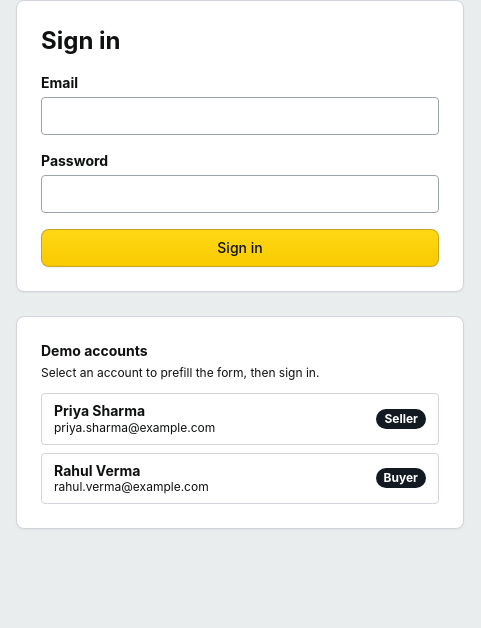
Test: LoginPage — failed login (Req 1.3) › shows an authentication-failed alert and does not redirect
The width and height of the screenshot is (481, 628).
Step 1. Type "priya.sharma@example.com" into the field labelled "Email" → {"x": 240, "y": 116}, box [41,97,439,135]
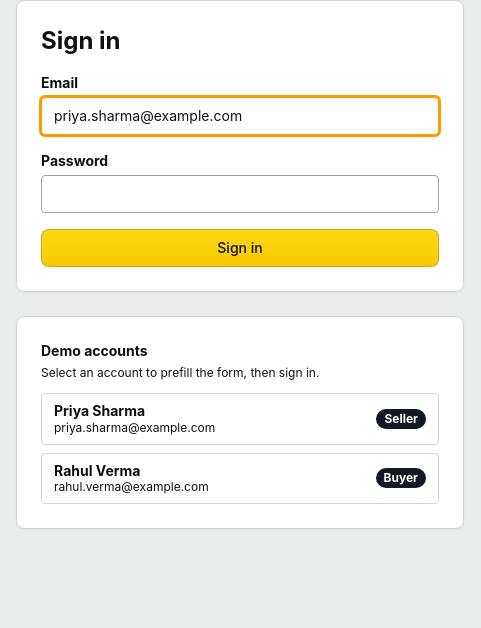
Step 2. Type "wrong-password" into the password field labelled "Password" → {"x": 240, "y": 194}, box [41,175,439,213]
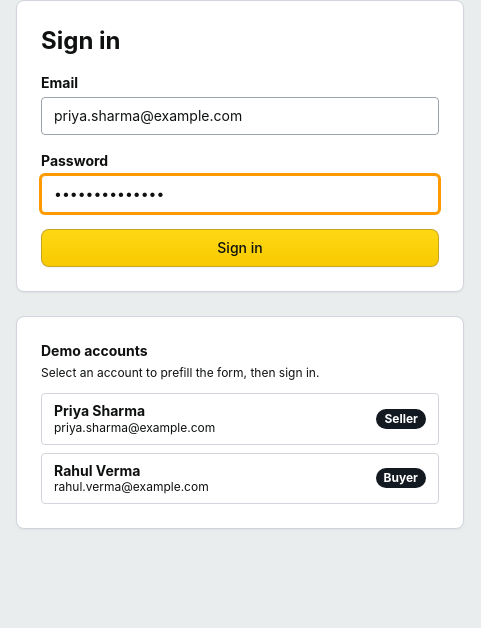
Step 3. Click the button "Sign in" → {"x": 240, "y": 248}, box [41,229,439,267]
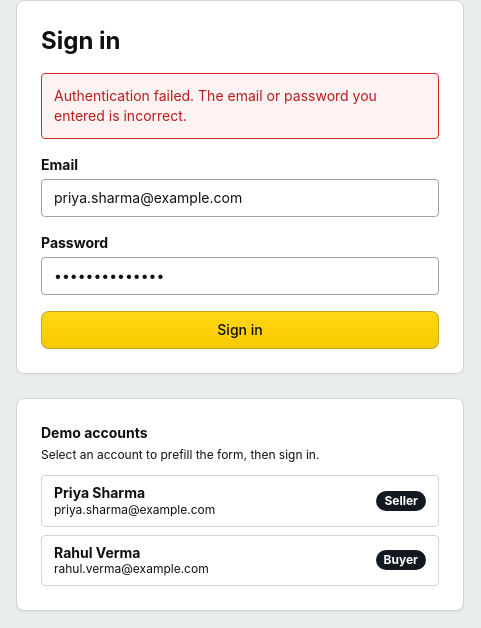
Result: the message shows "Authentication failed" at [54,87,377,124]
